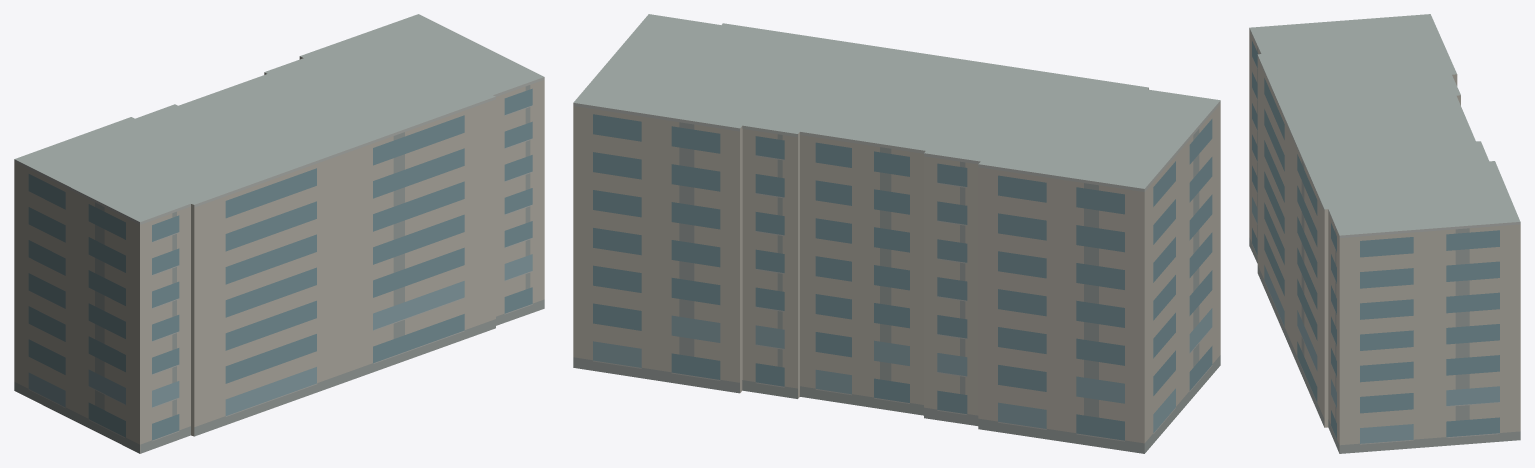
Rendered from survey-upis-32863829.glb.
The picture shows the model from 3 angles, left to right: view 1: azimuth 30°, elevation 25°; view 2: azimuth 150°, elevation 25°; view 3: azimuth 270°, elevation 25°; orthographic projection. The views are drawn at different scales.
Visible parts, largest first — view 1: survey-upis-32863829.tmp; view 2: survey-upis-32863829.tmp; view 3: survey-upis-32863829.tmp.
Part boxes in pixels (x1,y1,x2,y2): survey-upis-32863829.tmp: [14, 14, 544, 453]; survey-upis-32863829.tmp: [573, 14, 1220, 453]; survey-upis-32863829.tmp: [1249, 14, 1520, 453].
Bounding box in the file's own units: 44.52 × 20.45 × 23.02.
